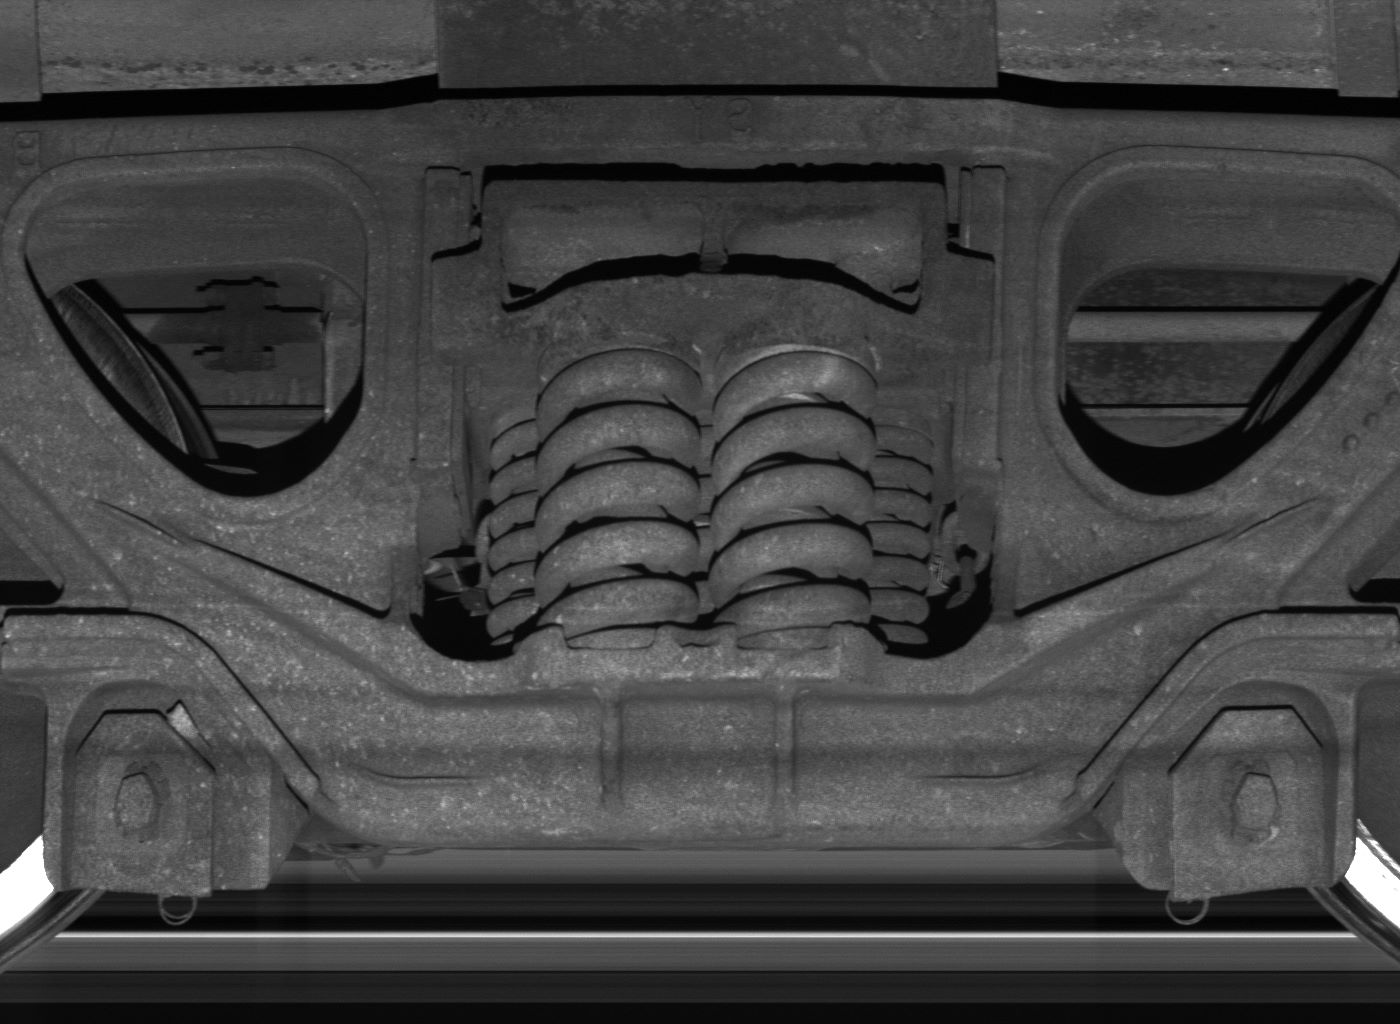Locking plate: (43, 675, 265, 898), (1143, 678, 1357, 903)
